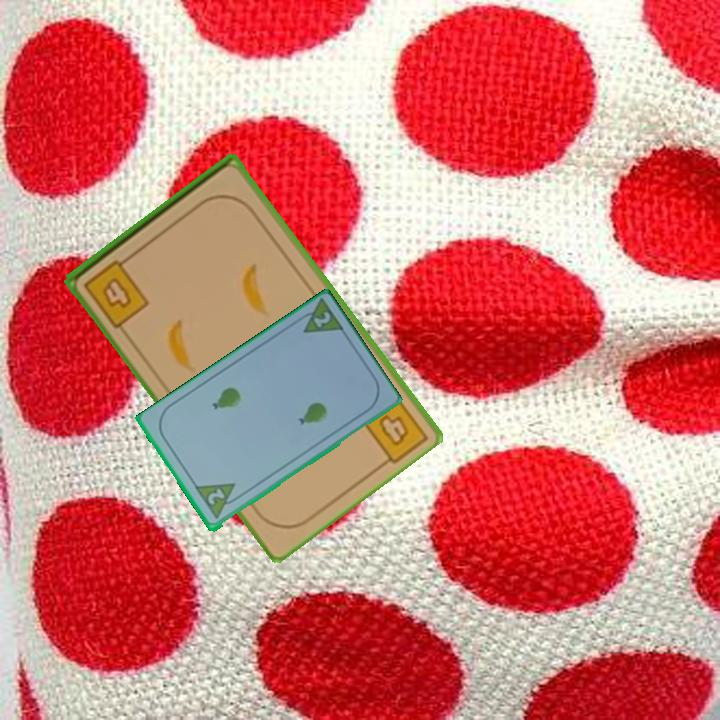2p: (192, 479, 245, 522), (291, 297, 347, 337)
4b: (80, 251, 152, 331), (375, 410, 413, 450)
